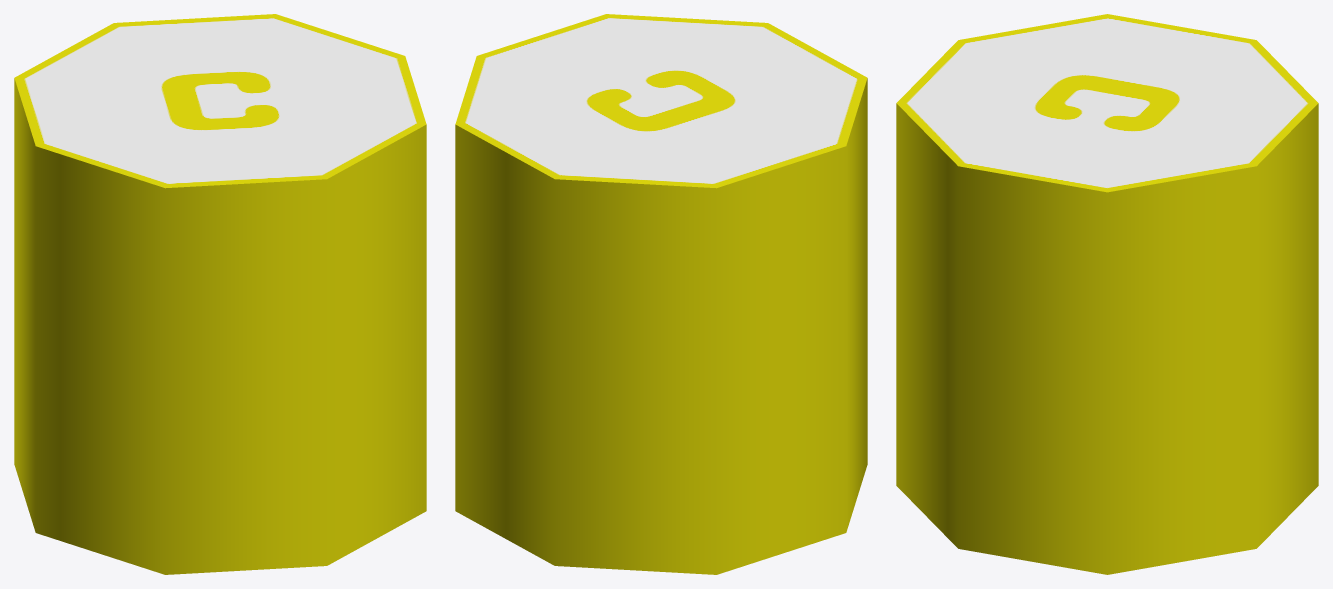
Rendered from AngleMesh.FBX.
3 views of the same model, side by side, from view 1: azimuth 30°, elevation 25°; view 2: azimuth 150°, elevation 25°; view 3: azimuth 270°, elevation 25° (orthographic).
Parts seen in each view (by area): view 1: Cylinder001; view 2: Cylinder001; view 3: Cylinder001.
Part boxes in pixels (<box>): Cylinder001: <box>14,14,426,574</box>; Cylinder001: <box>455,14,867,574</box>; Cylinder001: <box>896,14,1318,574</box>.
Size of the model in its own units: 1 by 1 by 1.
1 material, 1 textured.
